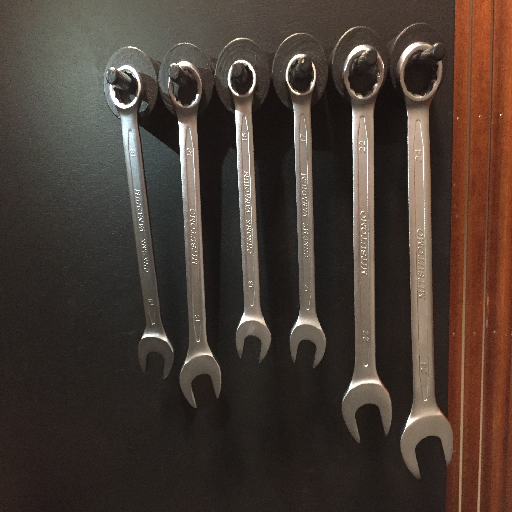bottom: (399, 411, 453, 479), (340, 379, 392, 443), (179, 350, 222, 408), (288, 315, 328, 368), (136, 330, 175, 381), (233, 314, 272, 364)
top: (395, 41, 444, 105), (340, 42, 387, 105), (165, 60, 203, 116), (108, 63, 143, 112), (284, 53, 317, 99), (226, 58, 258, 103)
